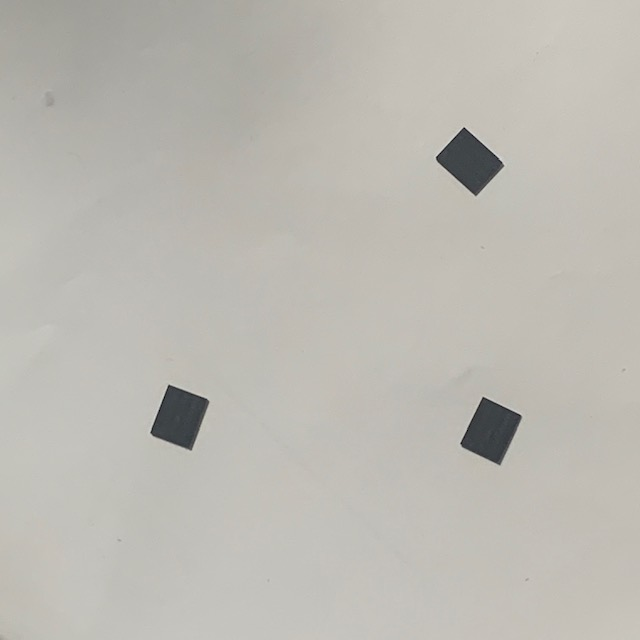IC: (433, 125, 507, 200), (456, 394, 527, 468), (149, 380, 211, 454)
